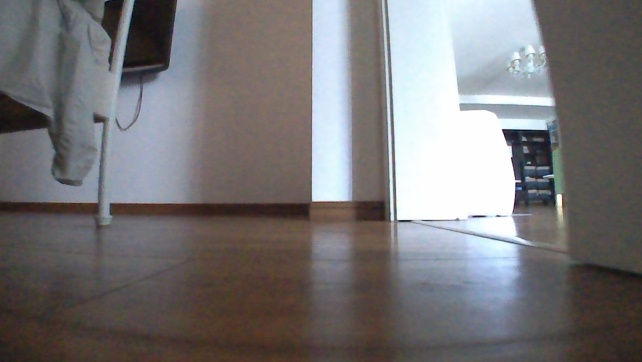wire: (113, 70, 145, 131)
